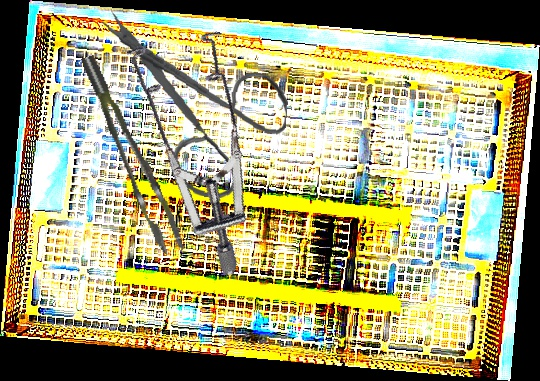Iris Scissors: (87, 10, 295, 204)
Speculum: (68, 6, 307, 277)
Tissue Forceps: (81, 46, 184, 261)
